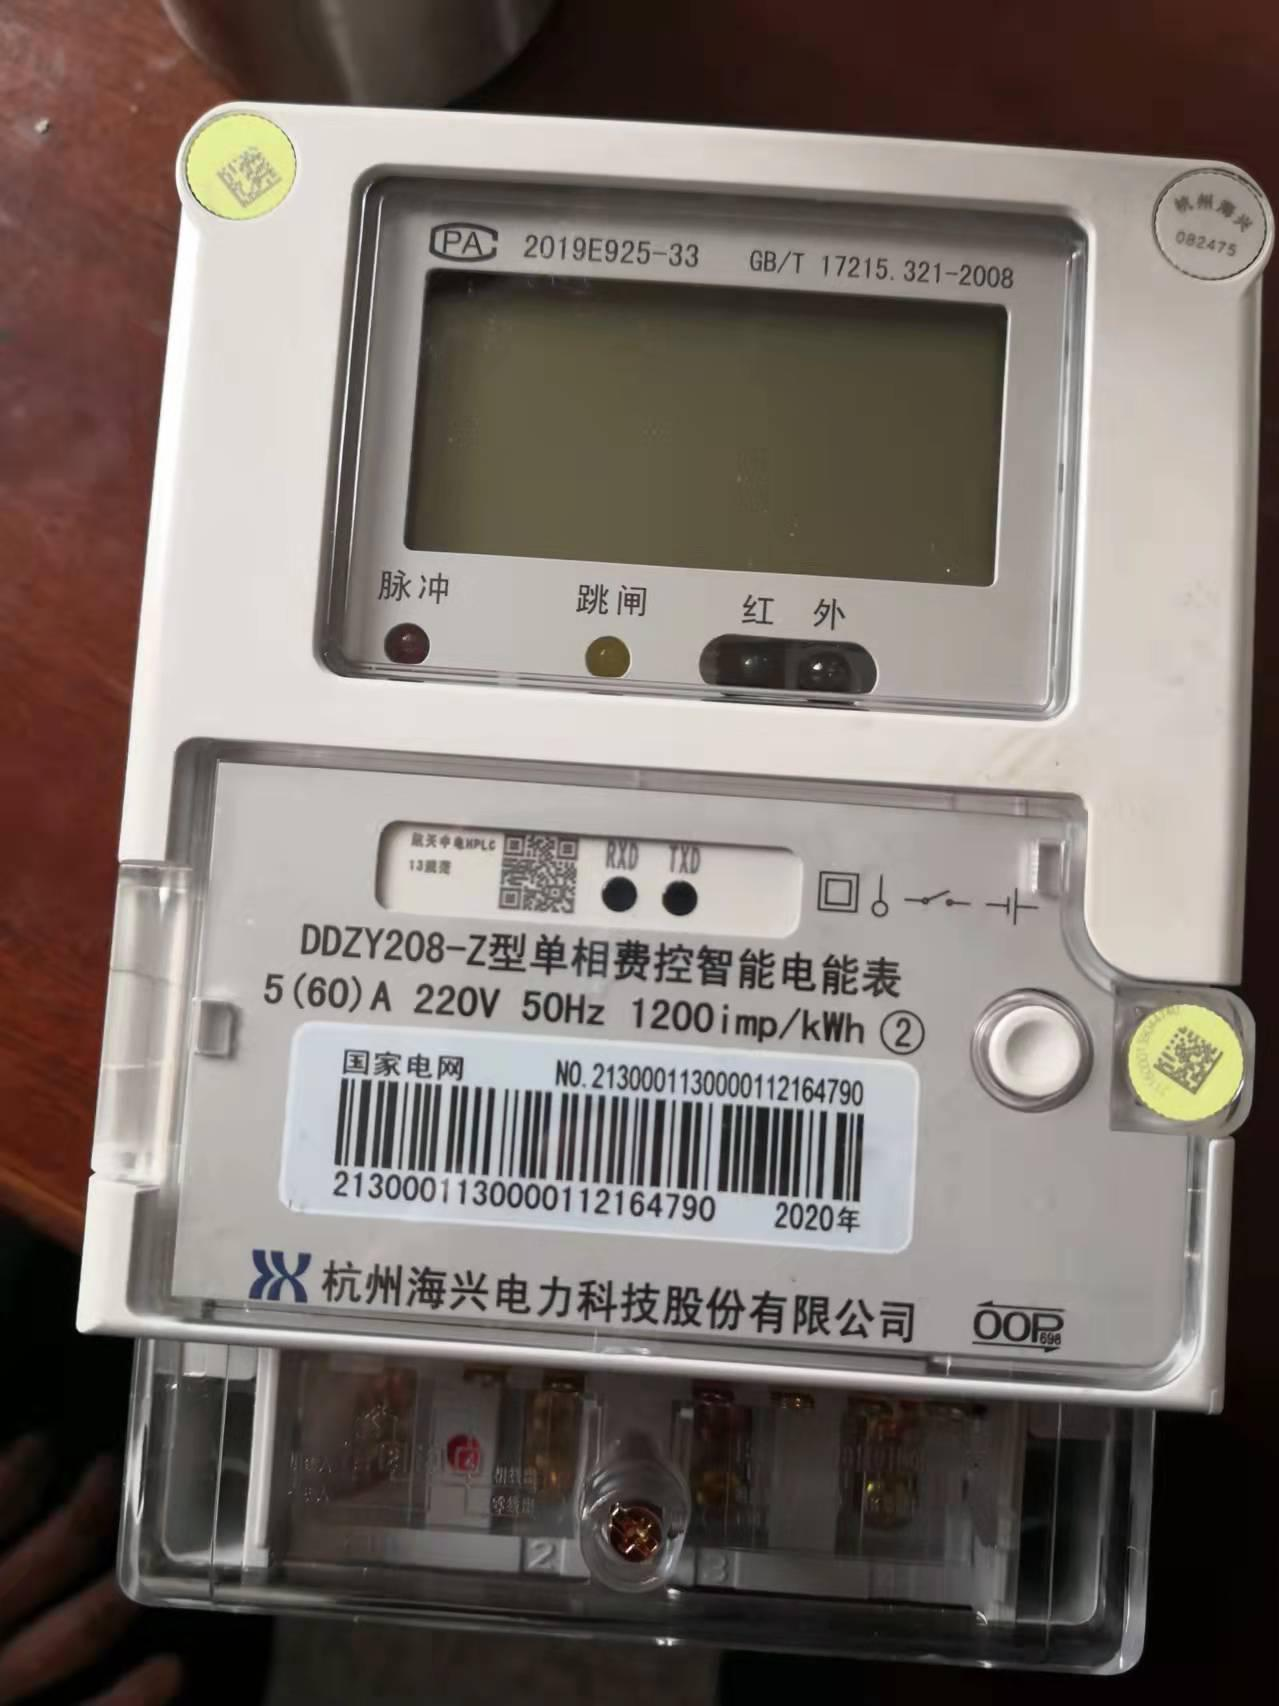digital: (70, 102, 1249, 1415)
